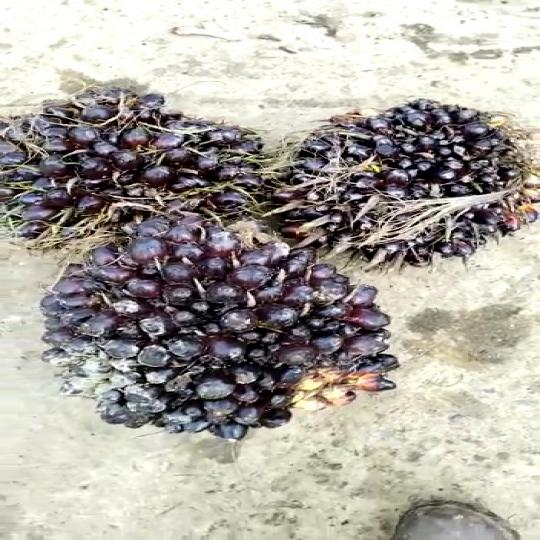mentah: (25, 195, 428, 454), (246, 74, 532, 278), (7, 76, 250, 243)
